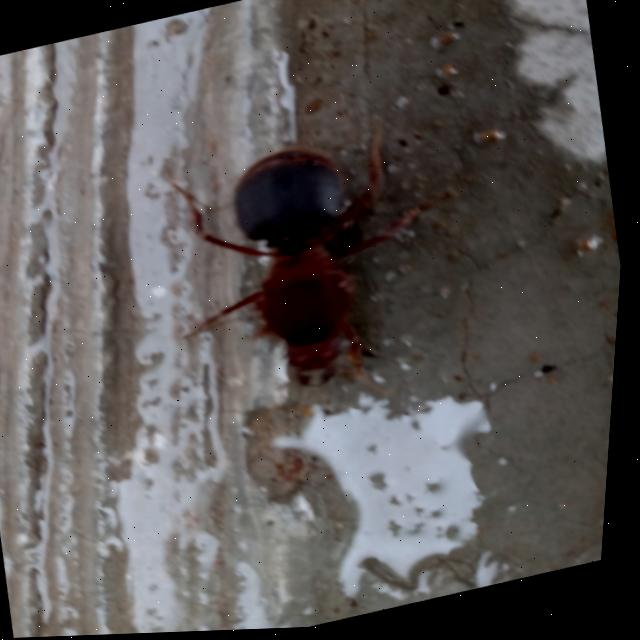Alive-Female-Dealate: (150, 108, 478, 442)
